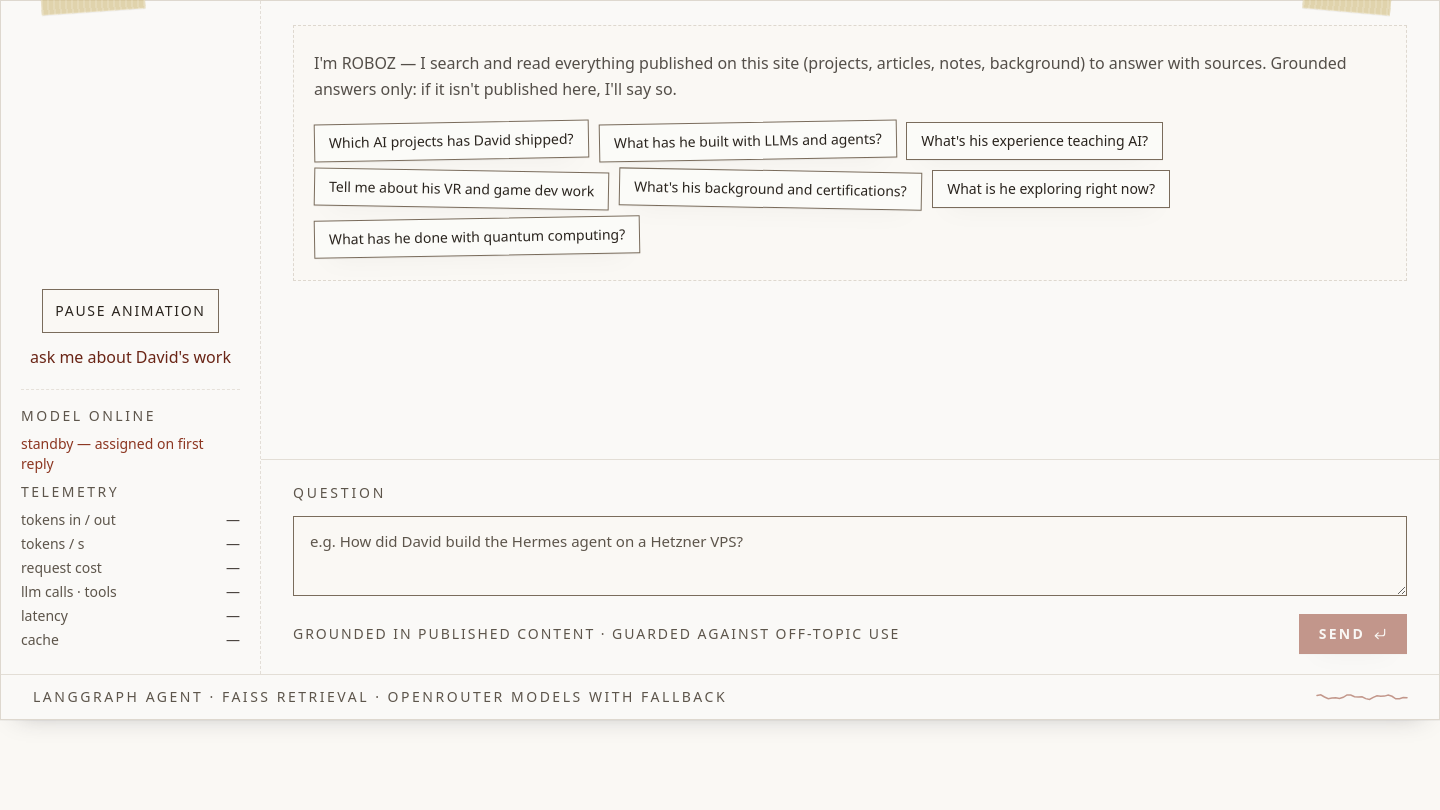
Scenario: ChatExperience › shows an error state when the request fails
Type "hello" into the text box labelled "Question" at point(850, 556), box x1=293 y1=516 x2=1407 y2=596
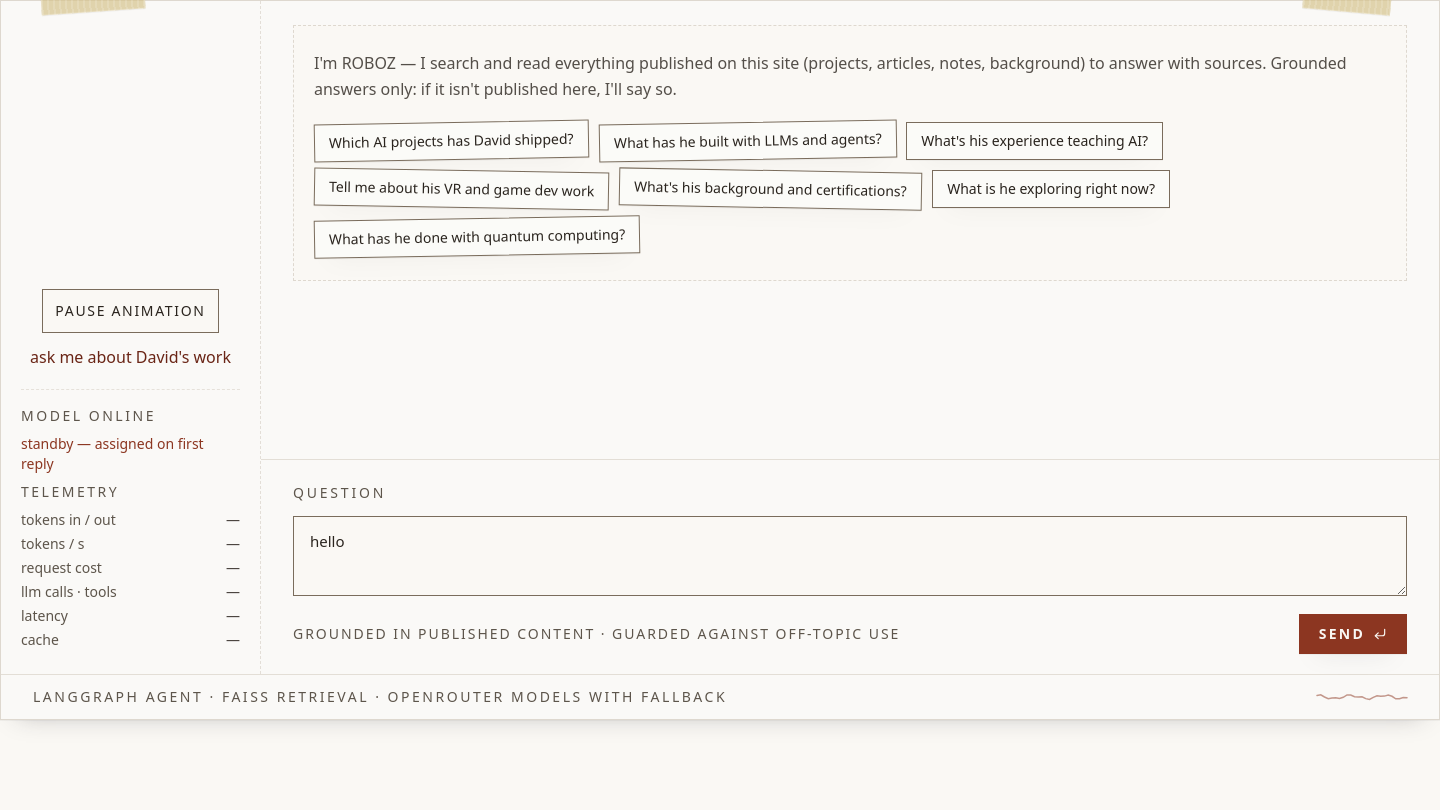
Click the button "Send" at point(1353, 634), box x1=1299 y1=614 x2=1407 y2=654
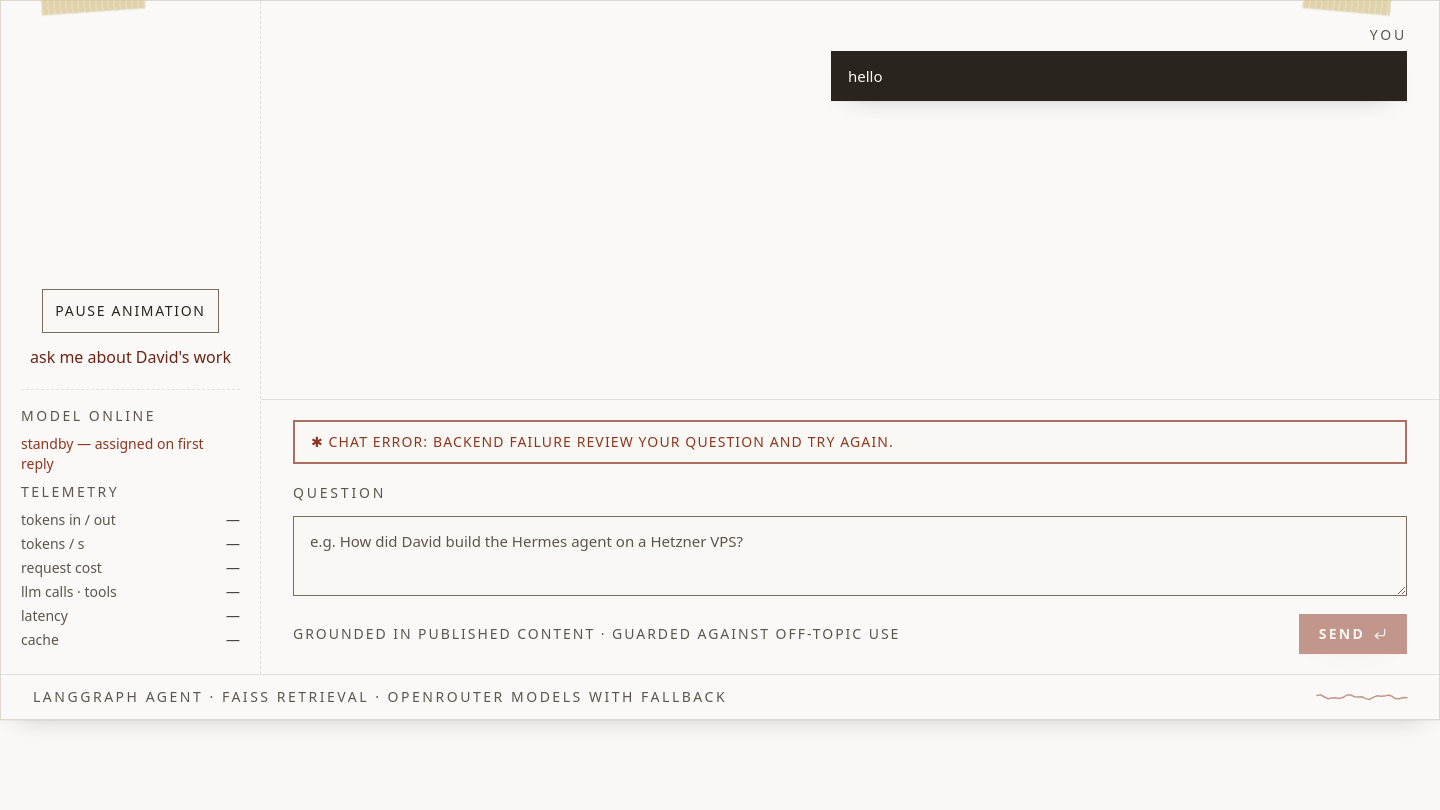
expect the message shows "backend failure": met, box x1=433 y1=432 x2=572 y2=451
